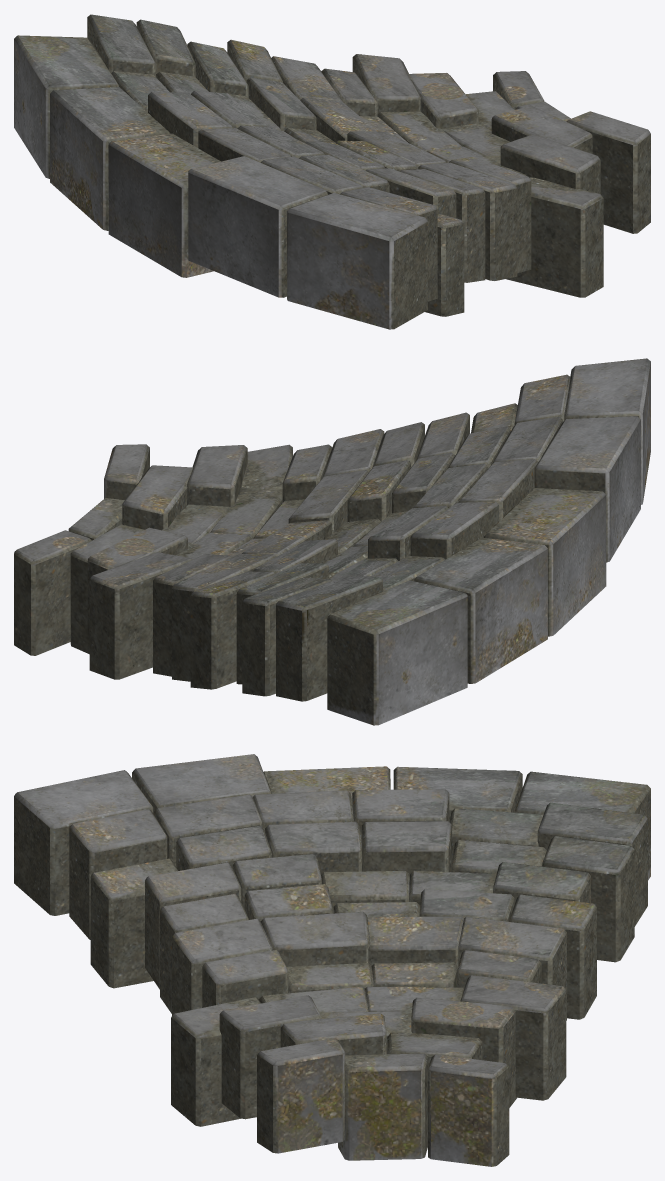
Rendered from broken_ring_segment.glb.
3 renders of one model, top to bottom at view 1: azimuth 30°, elevation 25°; view 2: azimuth 150°, elevation 25°; view 3: azimuth 270°, elevation 25°, orthographic. The views are drawn at different scales.
Parts seen in each view (by area): view 1: Object_3; view 2: Object_3; view 3: Object_3.
Part boxes in pixels (bbox=[...]): Object_3: bbox=[14, 14, 650, 329]; Object_3: bbox=[14, 358, 650, 725]; Object_3: bbox=[14, 754, 650, 1166].
Bounding box in the file's own units: 466 × 179 × 535.
1 material, 1 textured.
